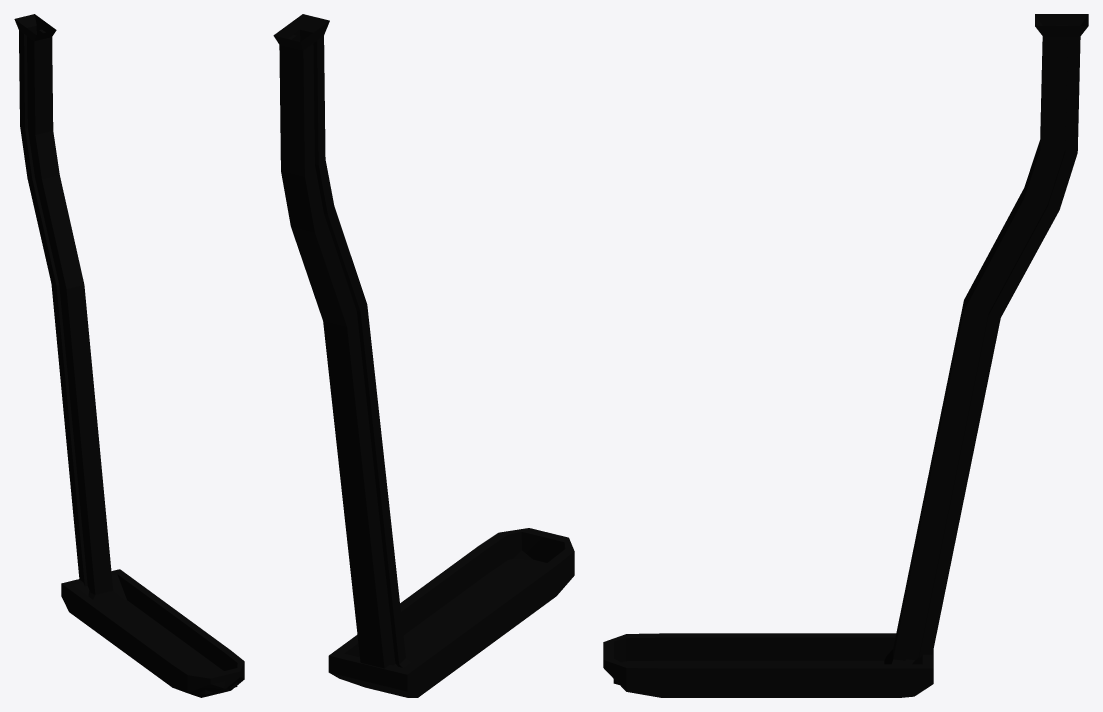
File: Stock_Uzi_Folding.fbx
3 views of the same model, side by side, from view 1: azimuth 30°, elevation 25°; view 2: azimuth 150°, elevation 25°; view 3: azimuth 270°, elevation 25° (orthographic). The views are drawn at different scales.
Visible parts, largest first — view 1: asset_Uzi.002; view 2: asset_Uzi.002; view 3: asset_Uzi.002.
Part boxes in pixels (left/top/right/bottom): asset_Uzi.002: left=14, top=14, right=244, bottom=697; asset_Uzi.002: left=273, top=14, right=574, bottom=697; asset_Uzi.002: left=603, top=14, right=1088, bottom=697.
Size of the model in its own units: 0.0166 by 0.1474 by 0.0972.
